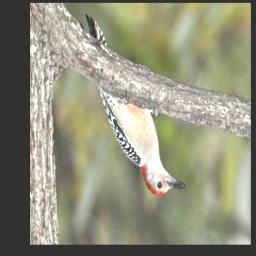Woodpecker: (84, 13, 187, 197)
